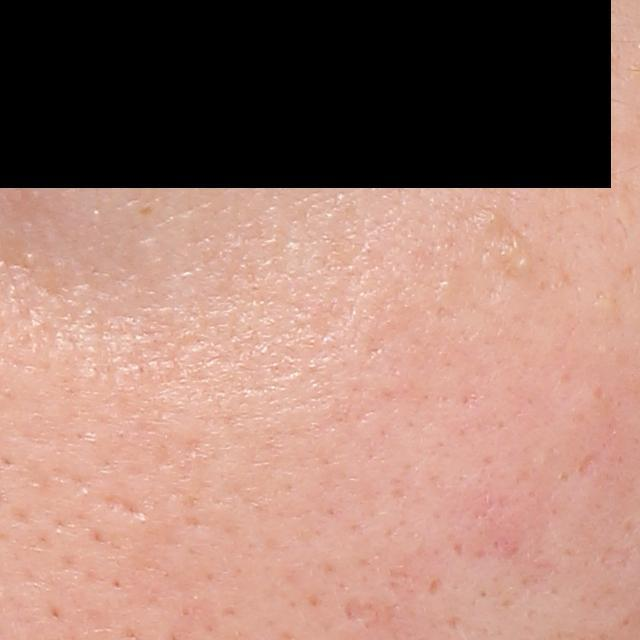atrophic_scar: (340, 596, 396, 638), (102, 492, 151, 527), (573, 447, 608, 480)
